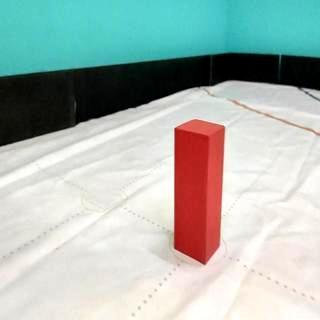redbox: (174, 118, 226, 264)
